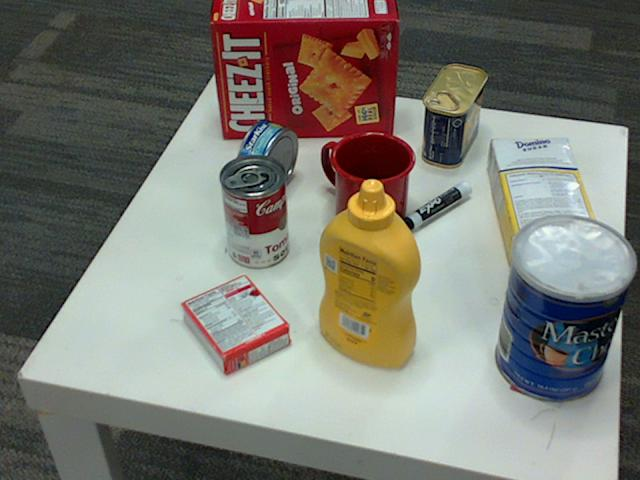cracker_box: (212, 0, 398, 136)
gelatin_box: (177, 274, 286, 376)
large_marker: (389, 184, 472, 239)
master_chef_can: (497, 215, 638, 403)
mug: (321, 129, 415, 233)
mustard_bottle: (318, 180, 420, 368)
potted_meat_can: (421, 65, 485, 168)
sugar_box: (487, 138, 601, 266)
tomato_soup_can: (219, 155, 288, 269)
tuna_fish_can: (233, 119, 297, 198)
